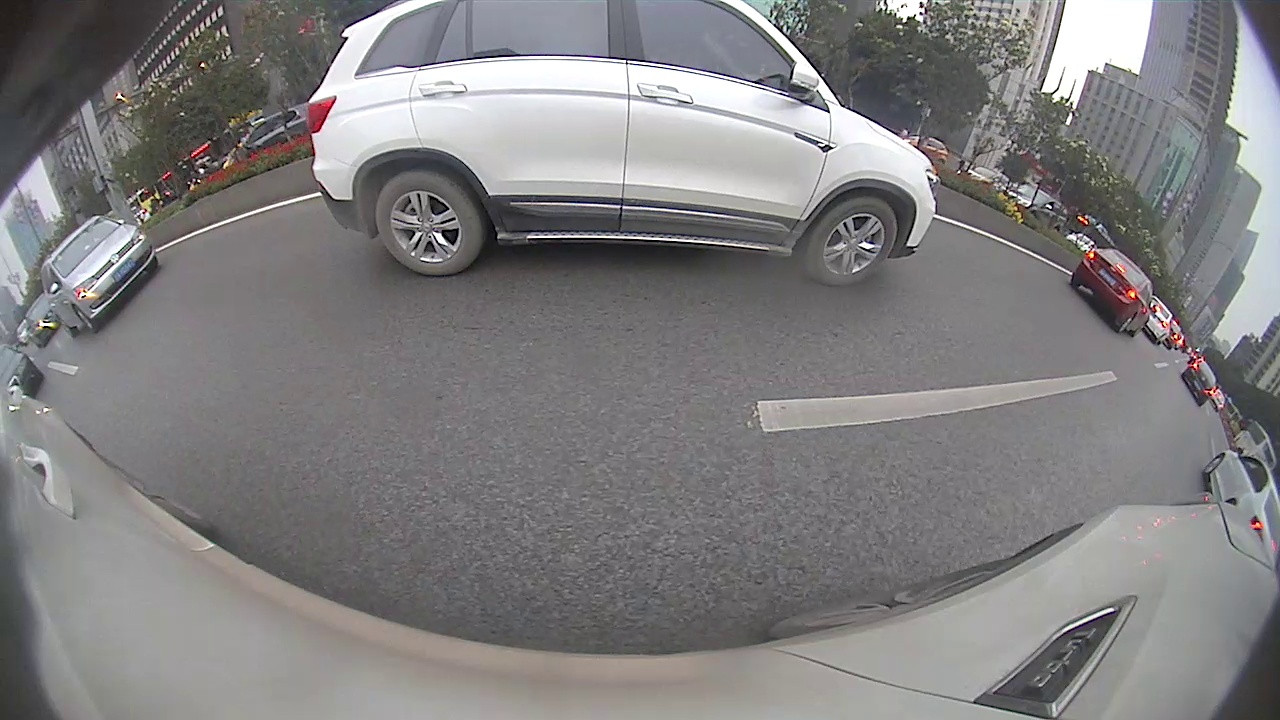car: (303, 1, 943, 289), (38, 213, 159, 338), (1201, 447, 1278, 568), (1068, 246, 1159, 338), (0, 342, 44, 406), (1182, 356, 1221, 407)
front: (807, 203, 901, 288)
rear: (376, 174, 483, 279)
